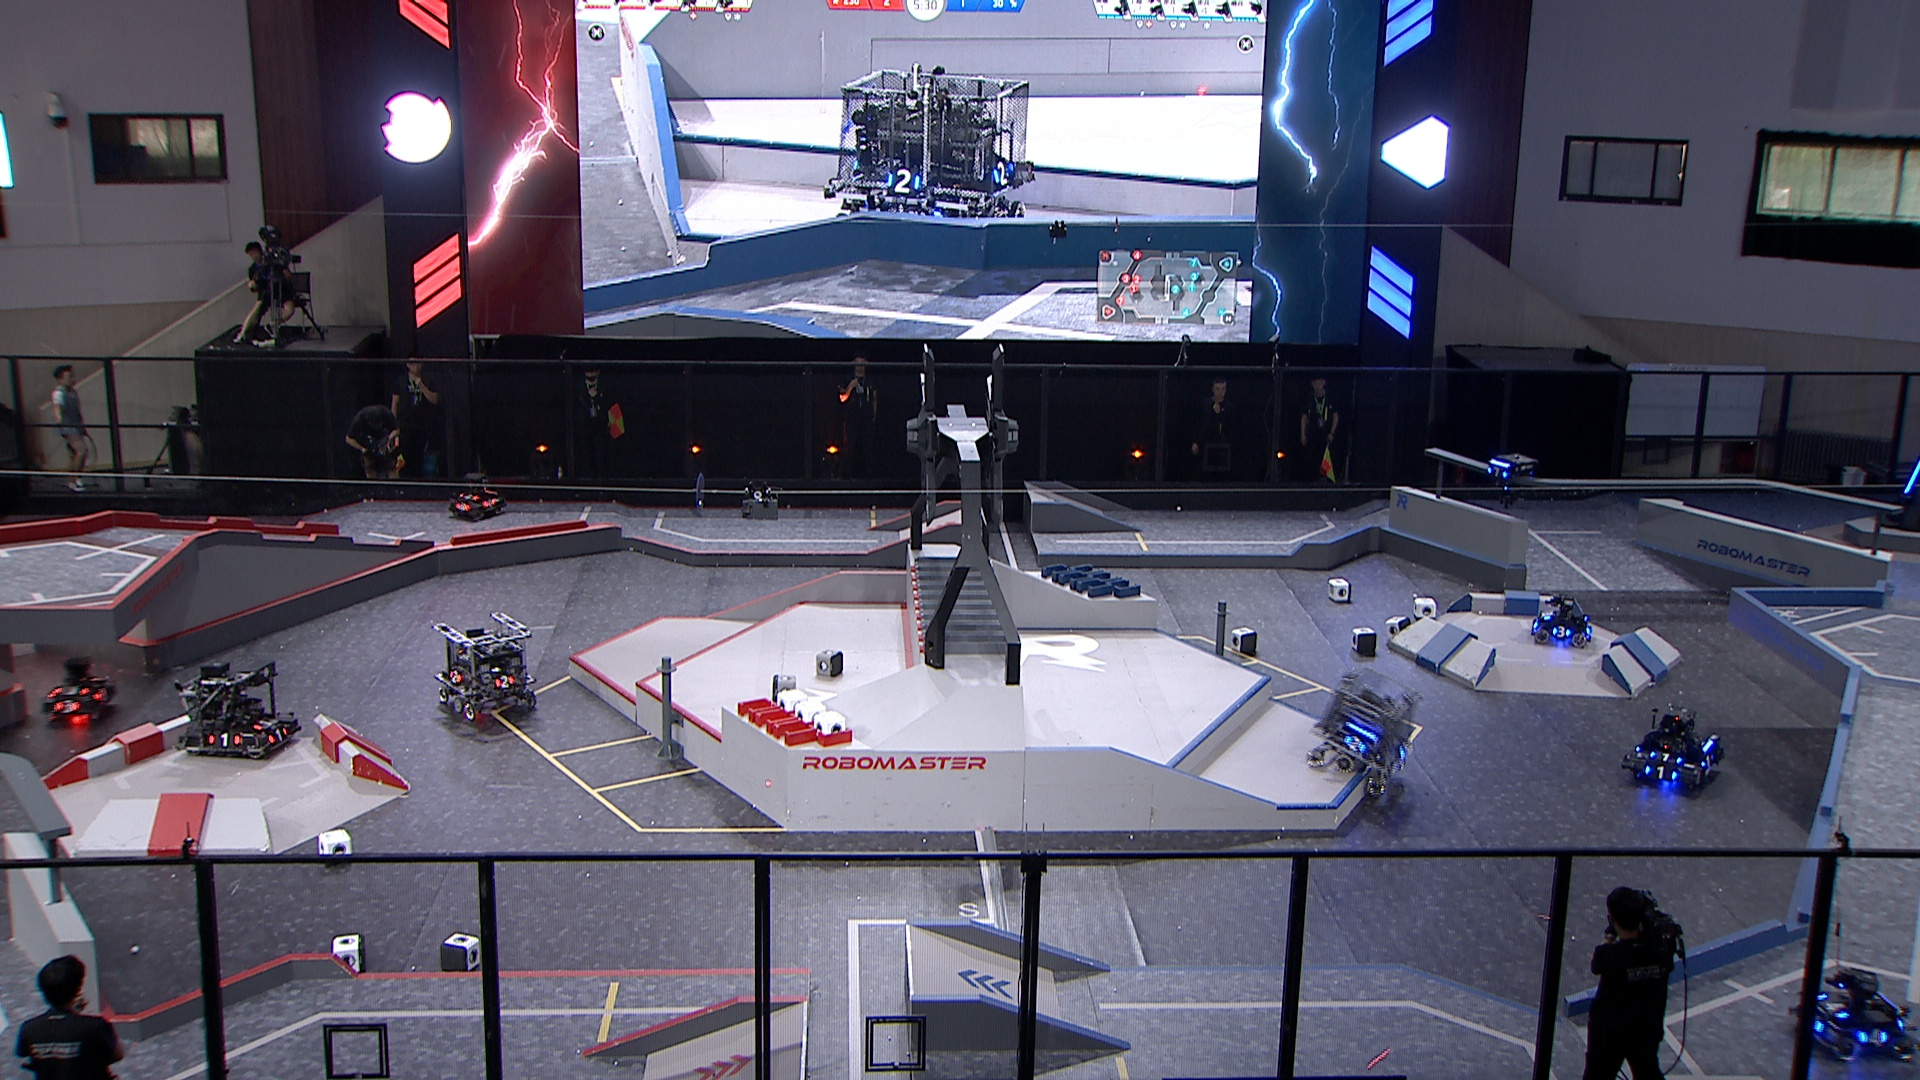armor: (1818, 992, 1851, 1021), (1642, 764, 1681, 783), (1855, 1027, 1890, 1048), (1904, 462, 1920, 498), (1650, 749, 1683, 766), (207, 732, 244, 746), (90, 684, 112, 705), (54, 699, 80, 716), (1346, 735, 1367, 756), (53, 687, 92, 698), (266, 727, 290, 744), (495, 674, 517, 690), (1549, 624, 1572, 640), (251, 717, 277, 731), (1485, 465, 1509, 480), (1700, 752, 1718, 770), (447, 669, 465, 684), (458, 493, 480, 504), (454, 501, 472, 513), (1539, 611, 1557, 622), (483, 496, 498, 509)
base: (1880, 446, 1920, 534)
car: (1305, 669, 1424, 800), (171, 657, 301, 756), (1789, 964, 1920, 1062), (434, 607, 537, 727), (1619, 704, 1726, 796), (40, 654, 121, 723), (1528, 595, 1594, 650), (447, 471, 510, 524)
ignore: (818, 65, 1040, 223)
watcher: (1485, 455, 1538, 510)
